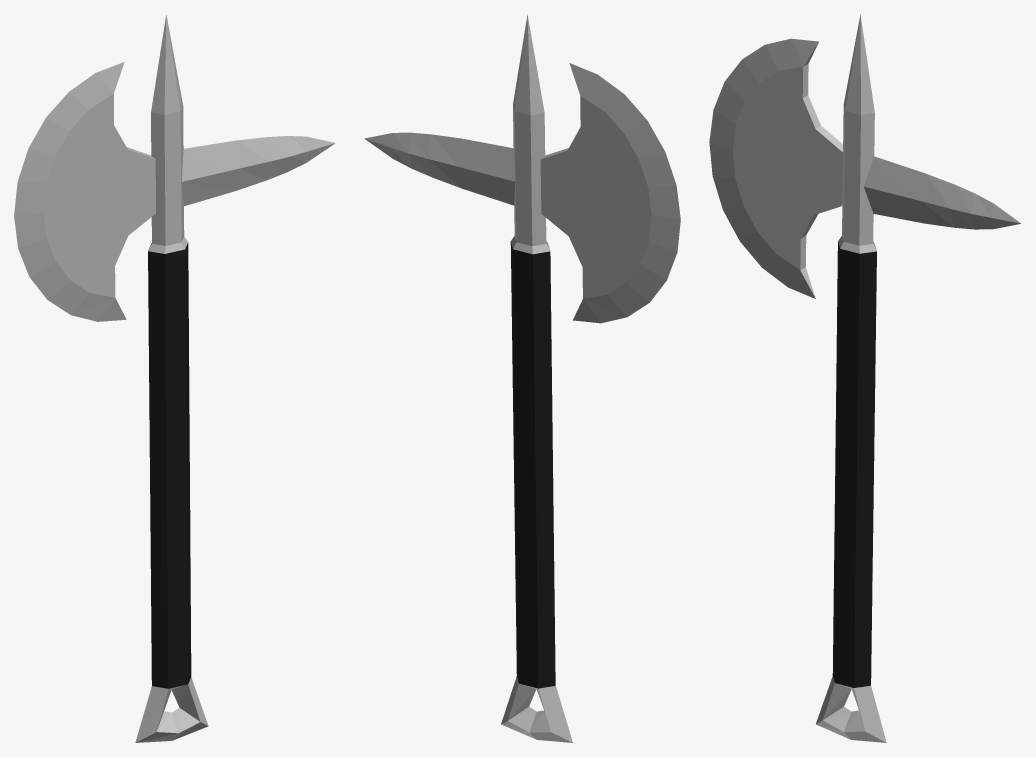
File: steel-axe.obj
3 renders of one model, left to right at view 1: azimuth 30°, elevation 25°; view 2: azimuth 150°, elevation 25°; view 3: azimuth 330°, elevation 25°, orthographic.
Parts seen in each view (by area): view 1: Mesh_KingdomAxe_Cube.003; view 2: Mesh_KingdomAxe_Cube.003; view 3: Mesh_KingdomAxe_Cube.003.
Part boxes in pixels (x1,y1,x2,y2): Mesh_KingdomAxe_Cube.003: (14, 15, 335, 742); Mesh_KingdomAxe_Cube.003: (364, 14, 680, 742); Mesh_KingdomAxe_Cube.003: (709, 14, 1020, 742).
Size of the model in its own units: 1.02 by 2.22 by 0.1099.
Materials: 2 (2 with a texture image).
